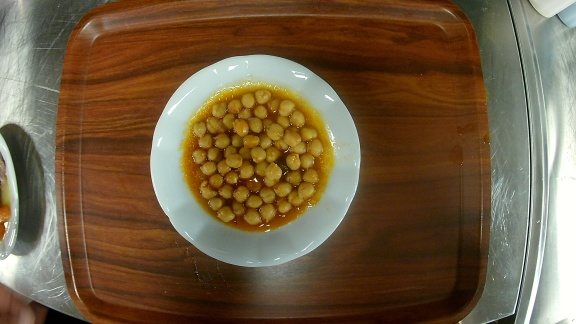sulunohut: (149, 54, 361, 268)
